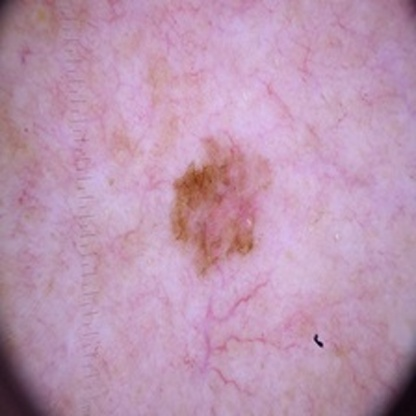malignant: (165, 166, 253, 257)
